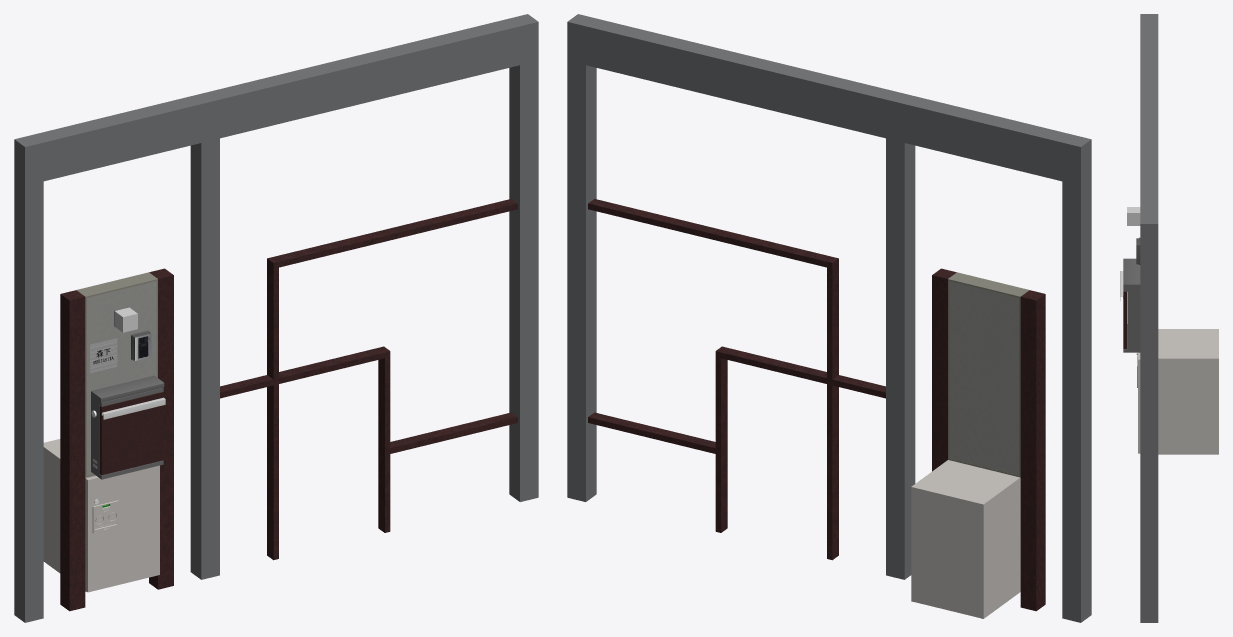
The model's file is hym19_rustycopper.fbx.
3 renders of one model, left to right at view 1: azimuth 30°, elevation 25°; view 2: azimuth 150°, elevation 25°; view 3: azimuth 270°, elevation 25°, orthographic. The views are drawn at different scales.
Parts seen in each view (by area): view 1: hym19_matrightgray-rustycopper; view 2: hym19_matrightgray-rustycopper; view 3: hym19_matrightgray-rustycopper.
Part boxes in pixels (x1,y1,x2,y2): hym19_matrightgray-rustycopper: (14, 14, 538, 622); hym19_matrightgray-rustycopper: (567, 14, 1091, 622); hym19_matrightgray-rustycopper: (1120, 14, 1218, 622).
Bounding box in the file's own units: 277 × 245 × 55.06.
24 materials, 9 textured.
